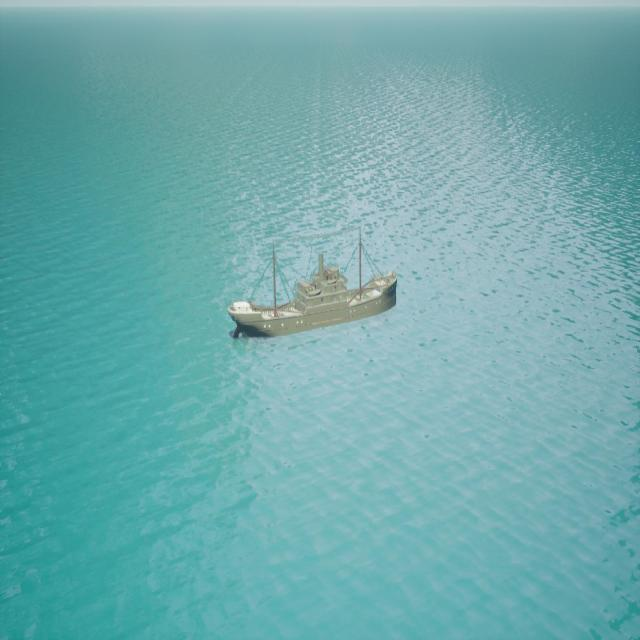fishing ship: (230, 253, 398, 339)
